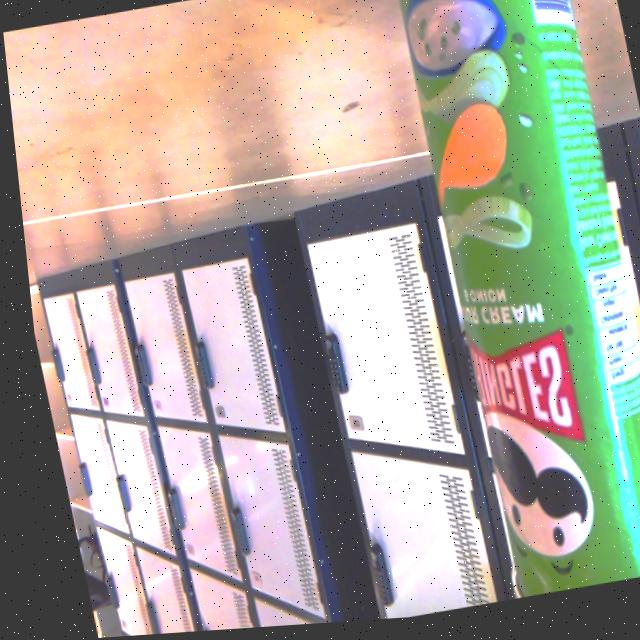greenpringles: (354, 0, 640, 612)
